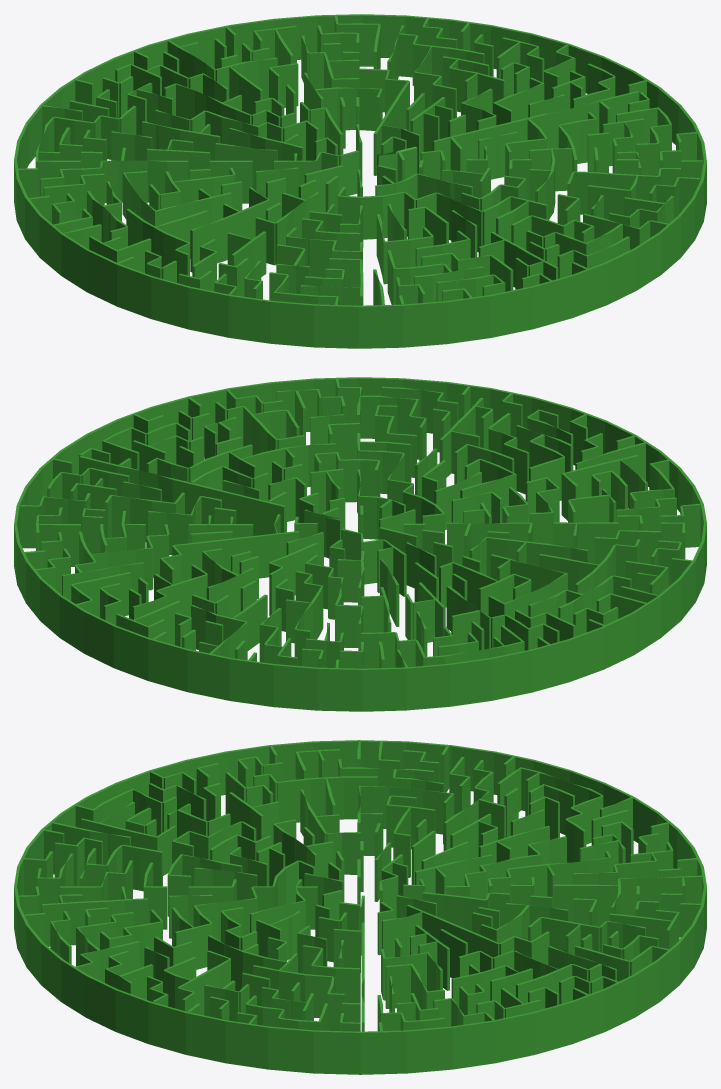
The model's file is 20230513_circular_maze.gltf.
The picture shows the model from 3 angles, top to bottom: view 1: azimuth 30°, elevation 25°; view 2: azimuth 150°, elevation 25°; view 3: azimuth 270°, elevation 25°; orthographic projection.
Visible parts, largest first — view 1: Curve.385; view 2: Curve.385; view 3: Curve.385.
Part boxes in pixels (left/top/right/bottom): Curve.385: left=14, top=14, right=706, bottom=348; Curve.385: left=14, top=377, right=706, bottom=711; Curve.385: left=14, top=740, right=706, bottom=1074.
Bounding box in the file's own units: 30 × 2 × 30.
